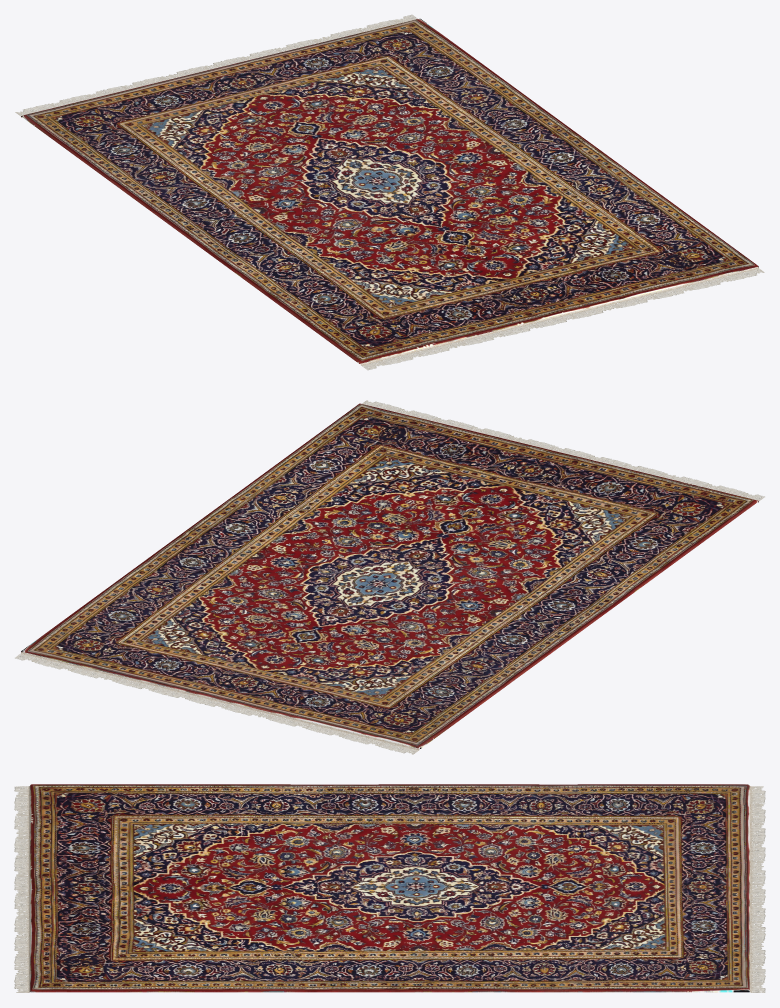
The model's file is keshan-rohdan.glb.
3 views of the same model, one above another, from view 1: azimuth 30°, elevation 25°; view 2: azimuth 150°, elevation 25°; view 3: azimuth 270°, elevation 25° (orthographic). The views are drawn at different scales.
Visible parts, largest first — view 1: rug; view 2: rug; view 3: rug.
Part boxes in pixels (x1,y1,x2,y2): rug: (15,14,764,370); rug: (15,400,764,754); rug: (14,784,765,992).
Bounding box in the file's own units: 2.1 × 0.0153 × 3.22.
Materials: 9 (8 with a texture image).
